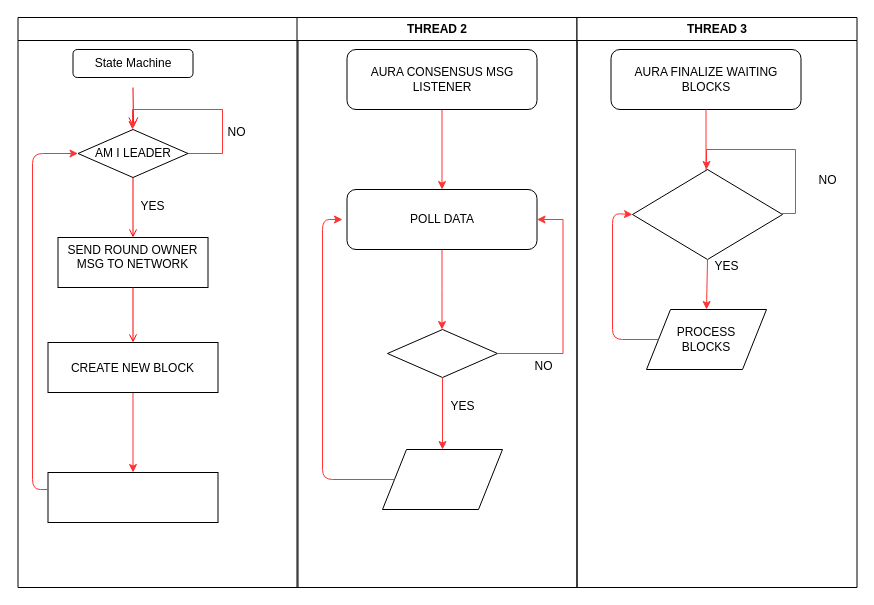
Image size: 874x605. Some labels were removed from this diagram. Here are the shapes that lost their labels. From the top down, the box of each, then its label:
(632, 168, 782, 260): BLOCK QUEUE SIZE CHECK
(17, 16, 298, 588): THREAD 1
(386, 328, 498, 378): DATA
(47, 472, 218, 522): SEND AUTHOR BLOCK MSG TO NETWROK
(382, 448, 502, 510): MSG Handler
